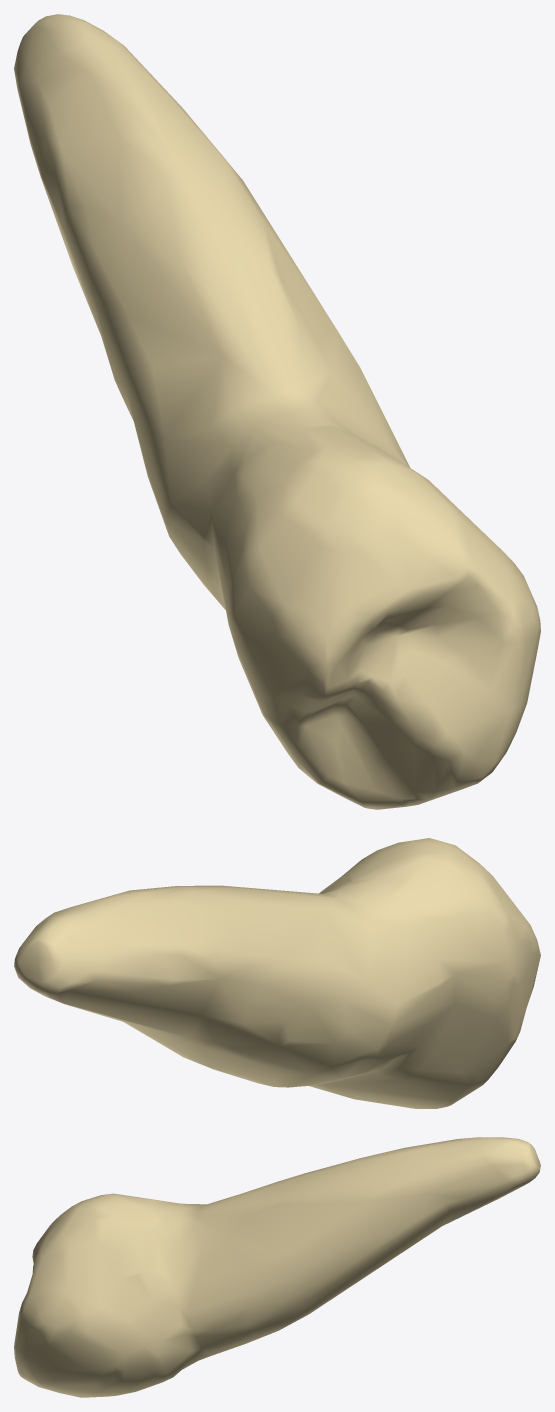
3 renders of one model, top to bottom at view 1: azimuth 30°, elevation 25°; view 2: azimuth 150°, elevation 25°; view 3: azimuth 270°, elevation 25°, orthographic. The views are drawn at different scales.
Parts seen in each view (by area): view 1: 左侧下颌第二前磨牙; view 2: 左侧下颌第二前磨牙; view 3: 左侧下颌第二前磨牙.
Part boxes in pixels (bbox=[...]): 左侧下颌第二前磨牙: bbox=[14, 14, 540, 809]; 左侧下颌第二前磨牙: bbox=[14, 838, 540, 1108]; 左侧下颌第二前磨牙: bbox=[14, 1137, 540, 1397].
Size of the model in its own units: 0.0117 by 0.0192 by 0.0336.
